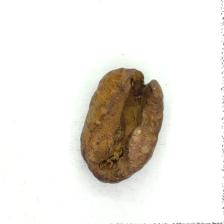NG: (113, 72, 156, 163)
